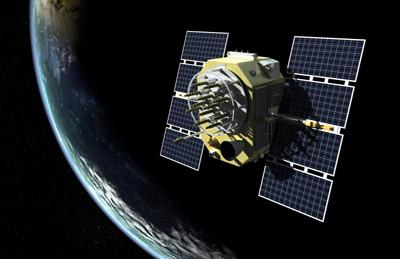body: (184, 50, 286, 172)
solar: (256, 34, 370, 224), (157, 29, 232, 173)
thruster: (219, 138, 247, 162)
